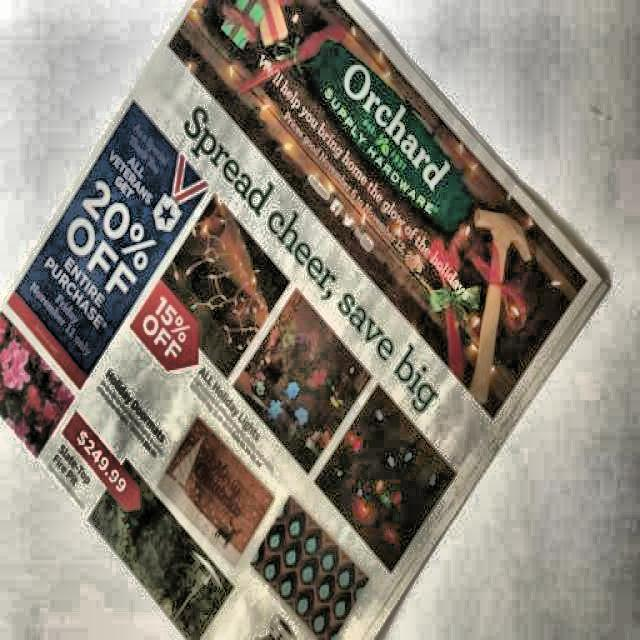Paper: (0, 0, 609, 638)
